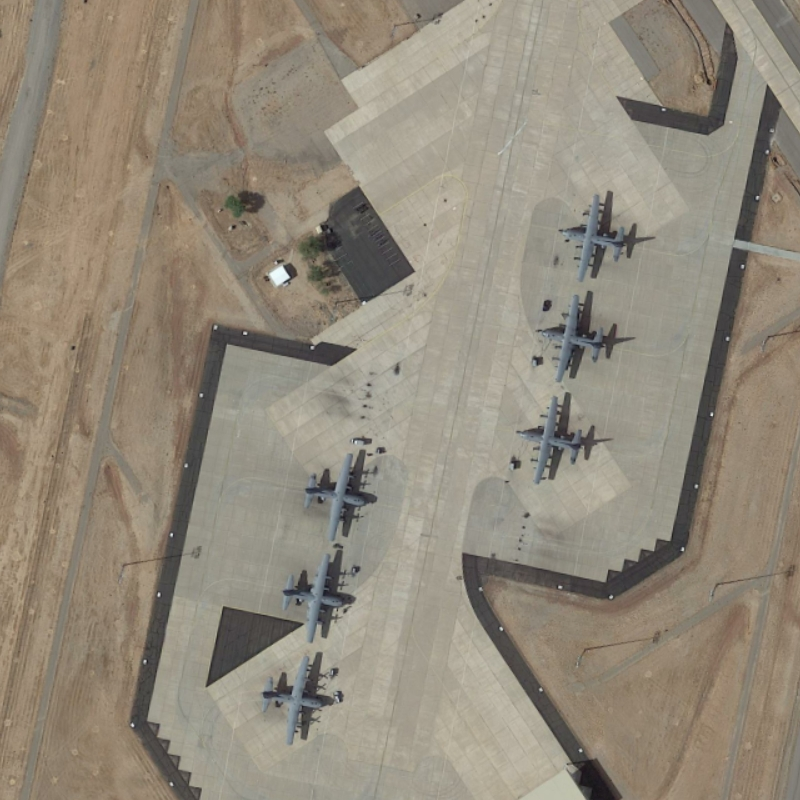A2: (552, 185, 644, 289), (514, 394, 600, 489), (271, 548, 357, 643), (295, 444, 376, 544), (535, 292, 619, 386), (258, 652, 336, 749)
